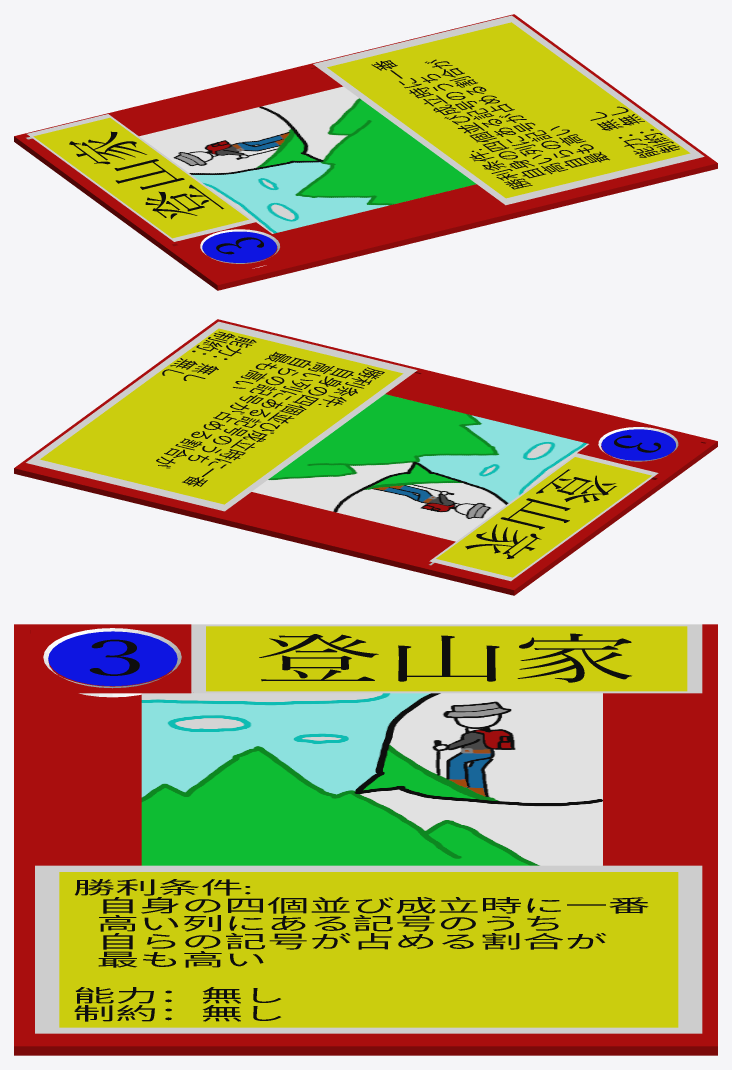
The model's file is 登山家赤.fbx.
The picture shows the model from 3 angles, top to bottom: view 1: azimuth 30°, elevation 25°; view 2: azimuth 150°, elevation 25°; view 3: azimuth 270°, elevation 25°; orthographic projection. The views are drawn at different scales.
Visible parts, largest first — view 1: 説明欄, 平面.001, カード本体.001, 名前欄, 説明文, 円, 平面, 名前; view 2: 説明欄, 平面.001, カード本体.001, 名前欄, 説明文, 円, 平面, 名前; view 3: 説明欄, 平面.001, カード本体.001, 名前欄, 説明文, 円, 平面, 名前, コスト蘭.
Part boxes in pixels (bbox=[...]): 説明欄: bbox=[313, 15, 704, 205]; 平面.001: bbox=[139, 86, 476, 233]; カード本体.001: bbox=[14, 14, 717, 290]; 名前欄: bbox=[27, 114, 255, 241]; 説明文: bbox=[371, 59, 679, 189]; 円: bbox=[202, 231, 276, 262]; 平面: bbox=[174, 222, 302, 275]; 名前: bbox=[69, 131, 223, 219]; 説明欄: bbox=[26, 321, 417, 511]; 平面.001: bbox=[252, 394, 588, 541]; カード本体.001: bbox=[14, 319, 717, 595]; 名前欄: bbox=[429, 453, 658, 581]; 説明文: bbox=[156, 331, 384, 486]; 円: bbox=[601, 429, 675, 460]; 平面: bbox=[577, 419, 704, 472]; 名前: bbox=[465, 469, 616, 558]; 説明欄: bbox=[35, 865, 702, 1033]; 平面.001: bbox=[141, 693, 602, 865]; カード本体.001: bbox=[14, 624, 717, 1055]; 名前欄: bbox=[191, 624, 702, 693]; 説明文: bbox=[74, 879, 648, 1021]; 円: bbox=[48, 631, 177, 686]; 平面: bbox=[30, 624, 191, 693]; 名前: bbox=[259, 633, 631, 682]; コスト蘭: bbox=[43, 628, 181, 697].
Bounding box in the file's own units: 281 × 6.07 × 198.
